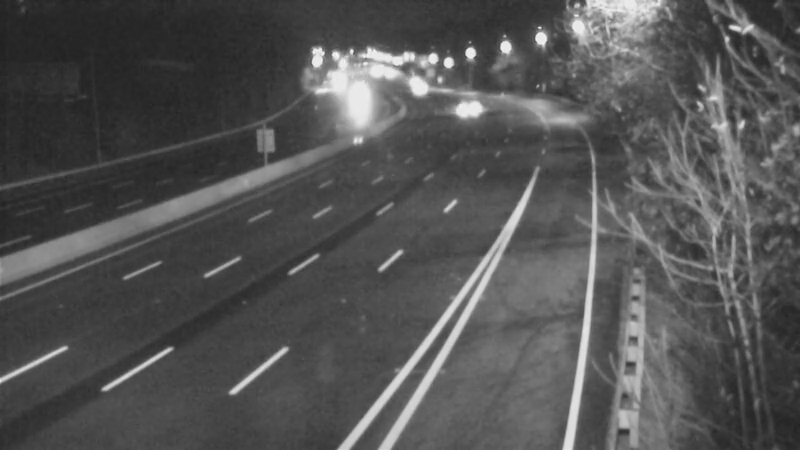vehicle: (392, 60, 442, 110), (441, 81, 491, 131), (333, 76, 383, 126)
